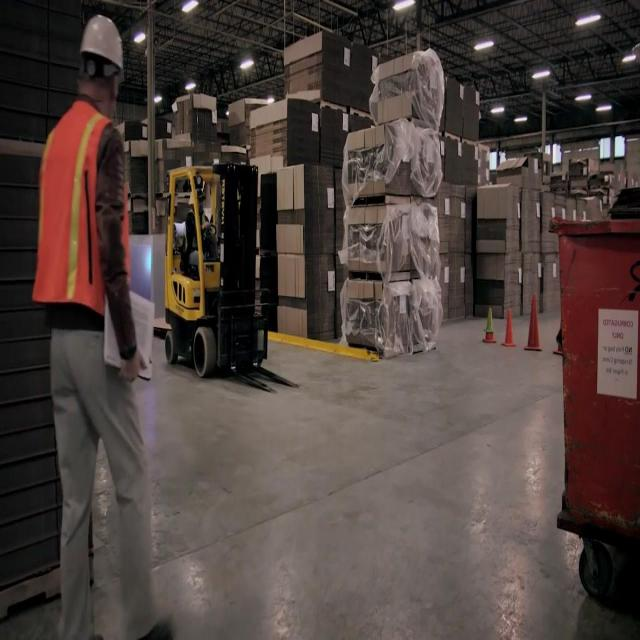Reflective-Jacket: (24, 98, 134, 342)
Safety-Helmet: (72, 8, 130, 81)
